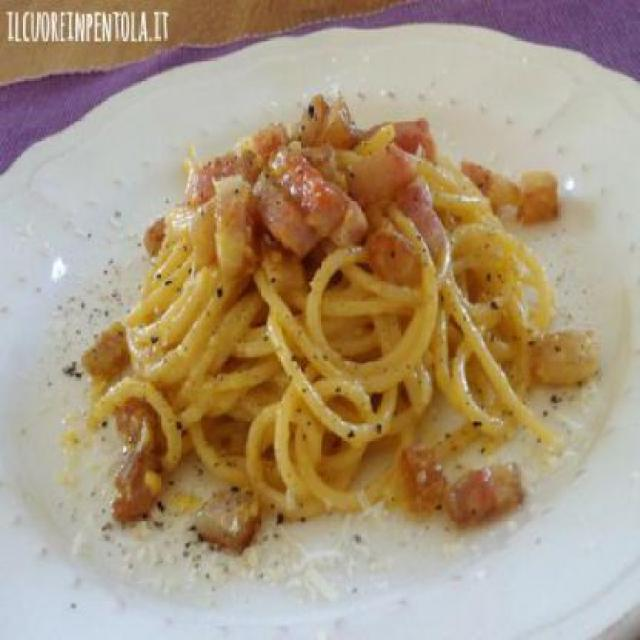Pasta with carbonara sauce: (110, 78, 618, 600)
